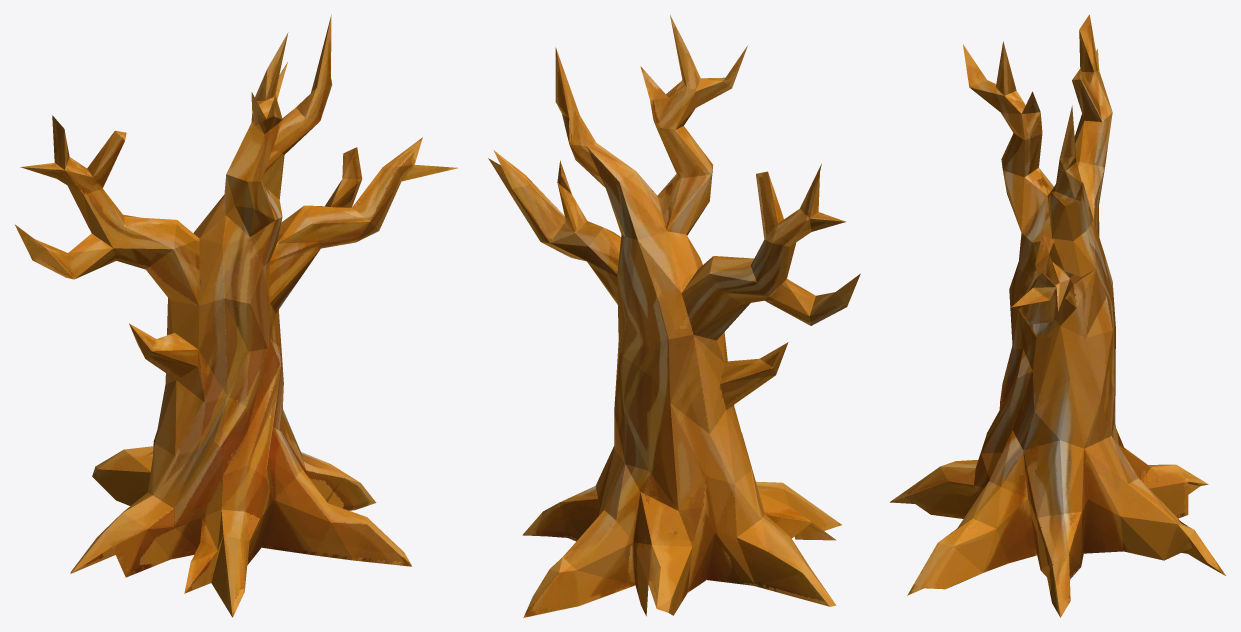
File: twisted_tree_stump.glb
3 renders of one model, left to right at view 1: azimuth 30°, elevation 25°; view 2: azimuth 150°, elevation 25°; view 3: azimuth 270°, elevation 25°, orthographic.
Bounding box in the file's own units: 1.62 × 1.98 × 1.17.
1 material, 1 textured.
